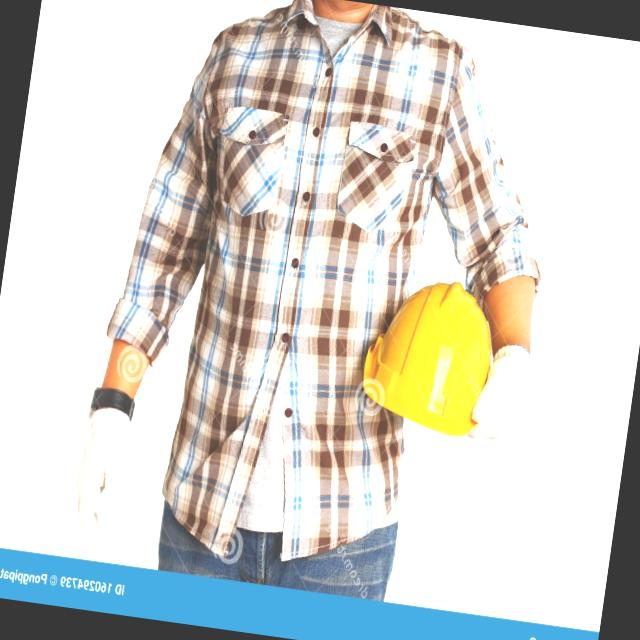no-vest: (156, 13, 462, 559)
